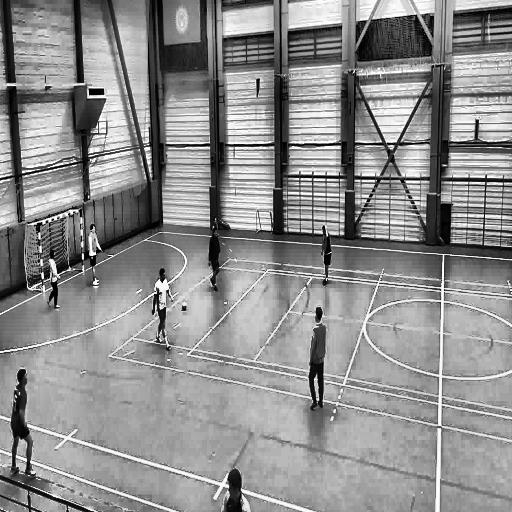ball: (181, 300, 188, 314)
player: (9, 367, 37, 480), (308, 306, 327, 413), (151, 266, 174, 352), (217, 466, 251, 512), (87, 224, 103, 287), (47, 248, 61, 312), (209, 230, 222, 293), (320, 220, 332, 287), (211, 214, 220, 231)
